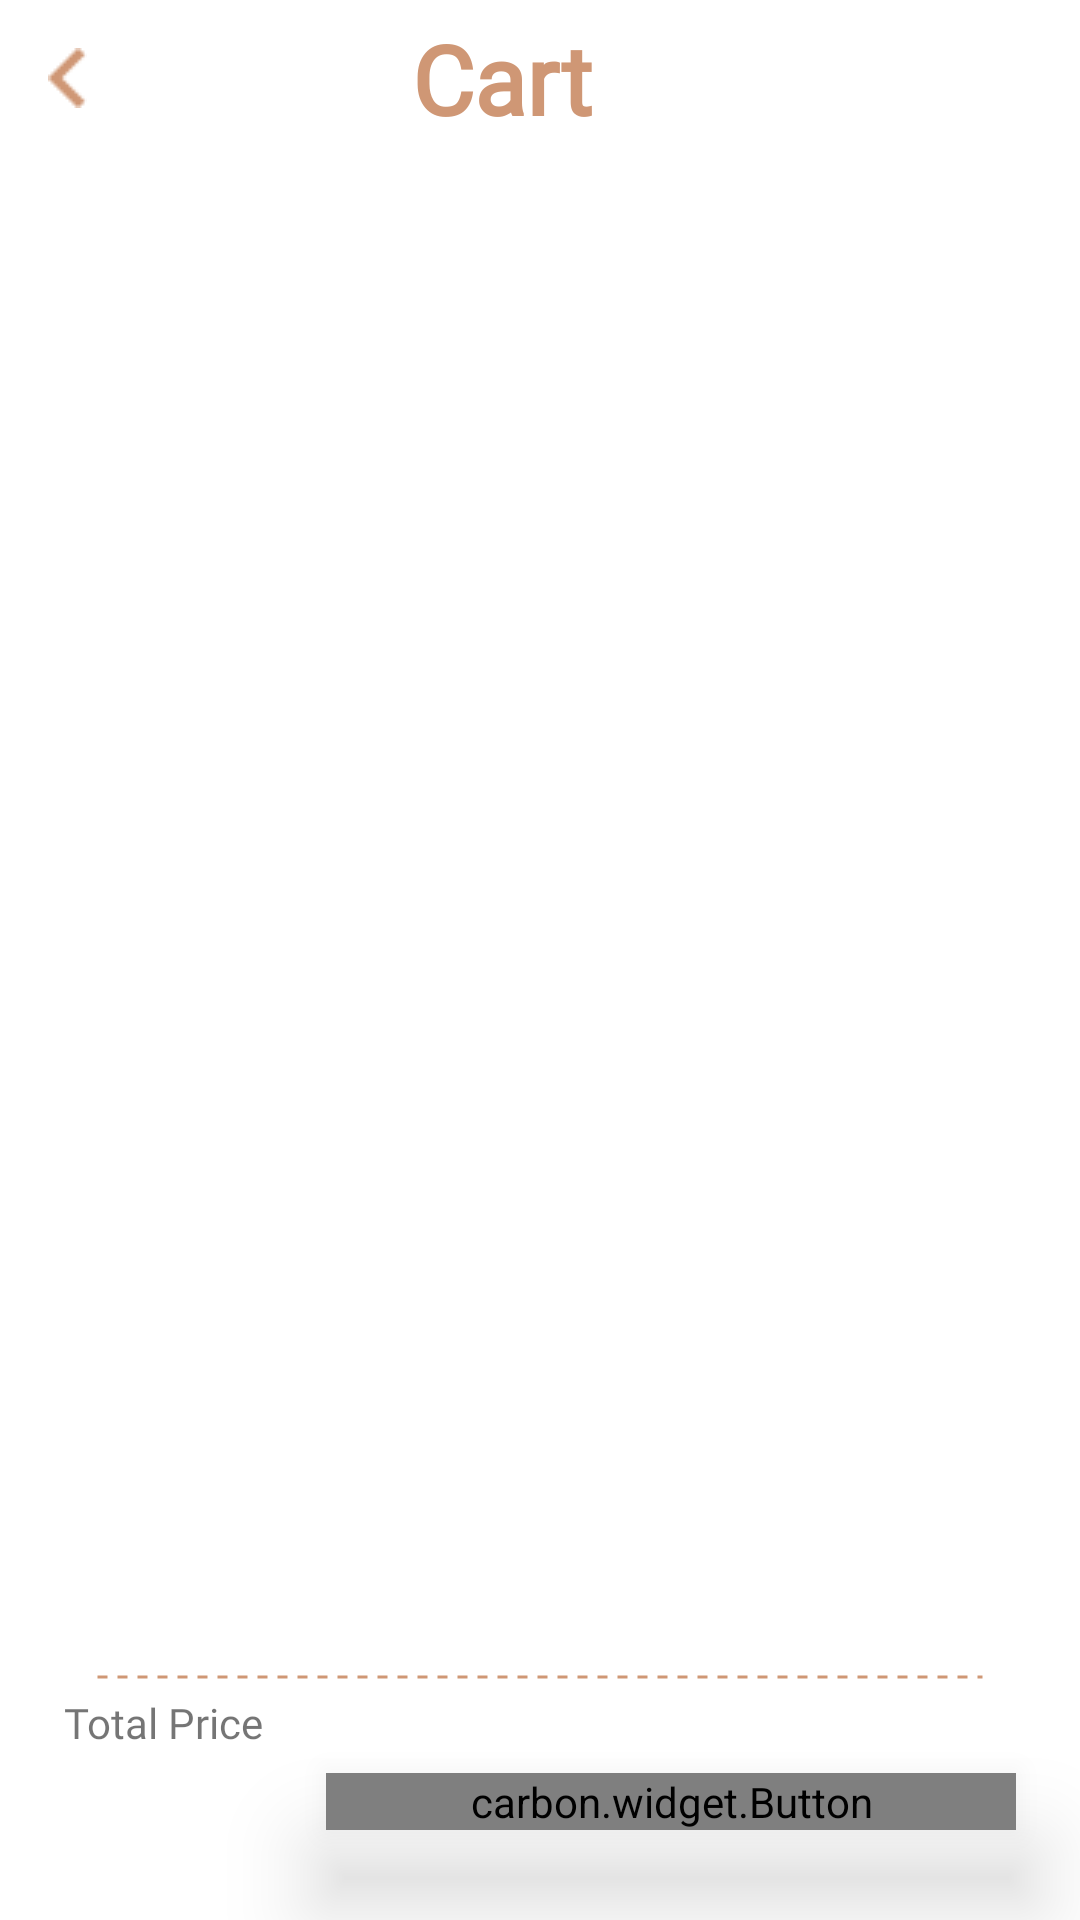

Icon bounding boxes for this 1080×1920 phone screenshot, format (x1, y1, x2, y2):
back: (48, 48, 85, 108)
